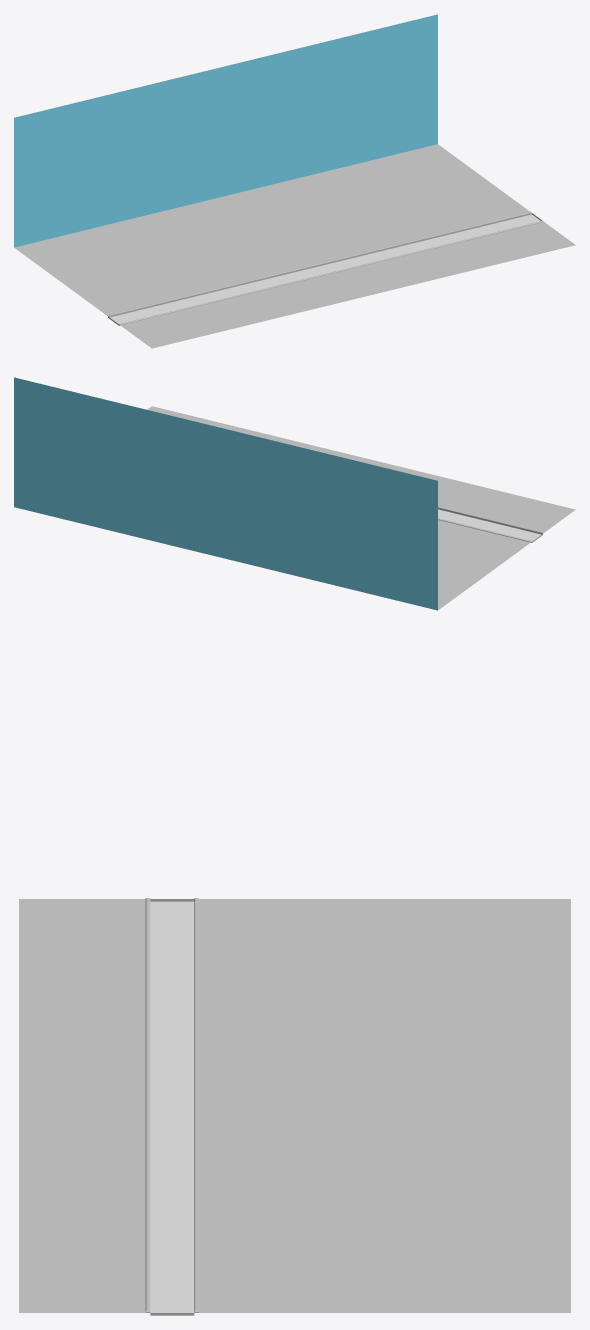
Rendered from Env.fbx.
3 views of the same model, one above another, from view 1: azimuth 30°, elevation 25°; view 2: azimuth 150°, elevation 25°; view 3: azimuth 270°, elevation 25° (orthographic). The views are drawn at different scales.
Visible parts, largest first — view 1: Env; view 2: Env; view 3: Env.
Boxes of the visible parts, x1,y1,x2,y2 form: Env: (14,14,575,348); Env: (14,377,575,610); Env: (19,898,570,1315).
Size of the model in its own units: 7874 by 2328 by 4439.
